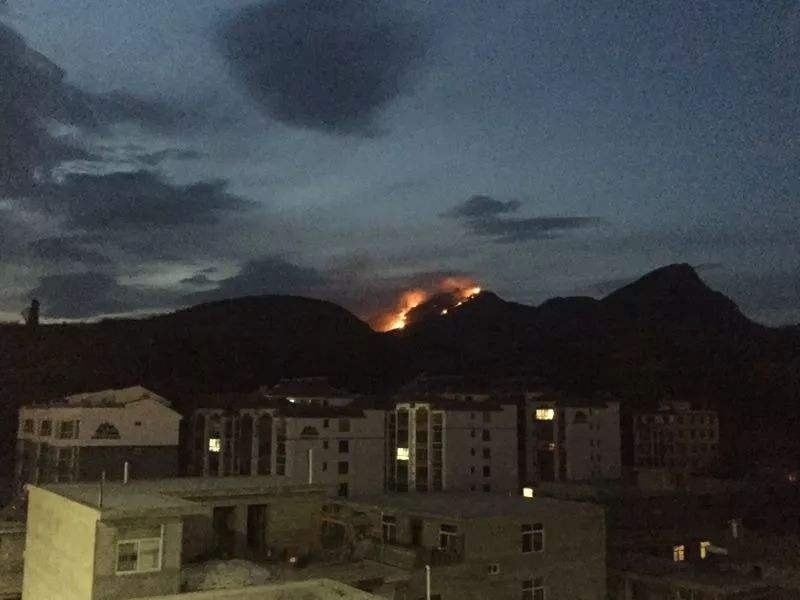fire: (379, 277, 479, 331)
